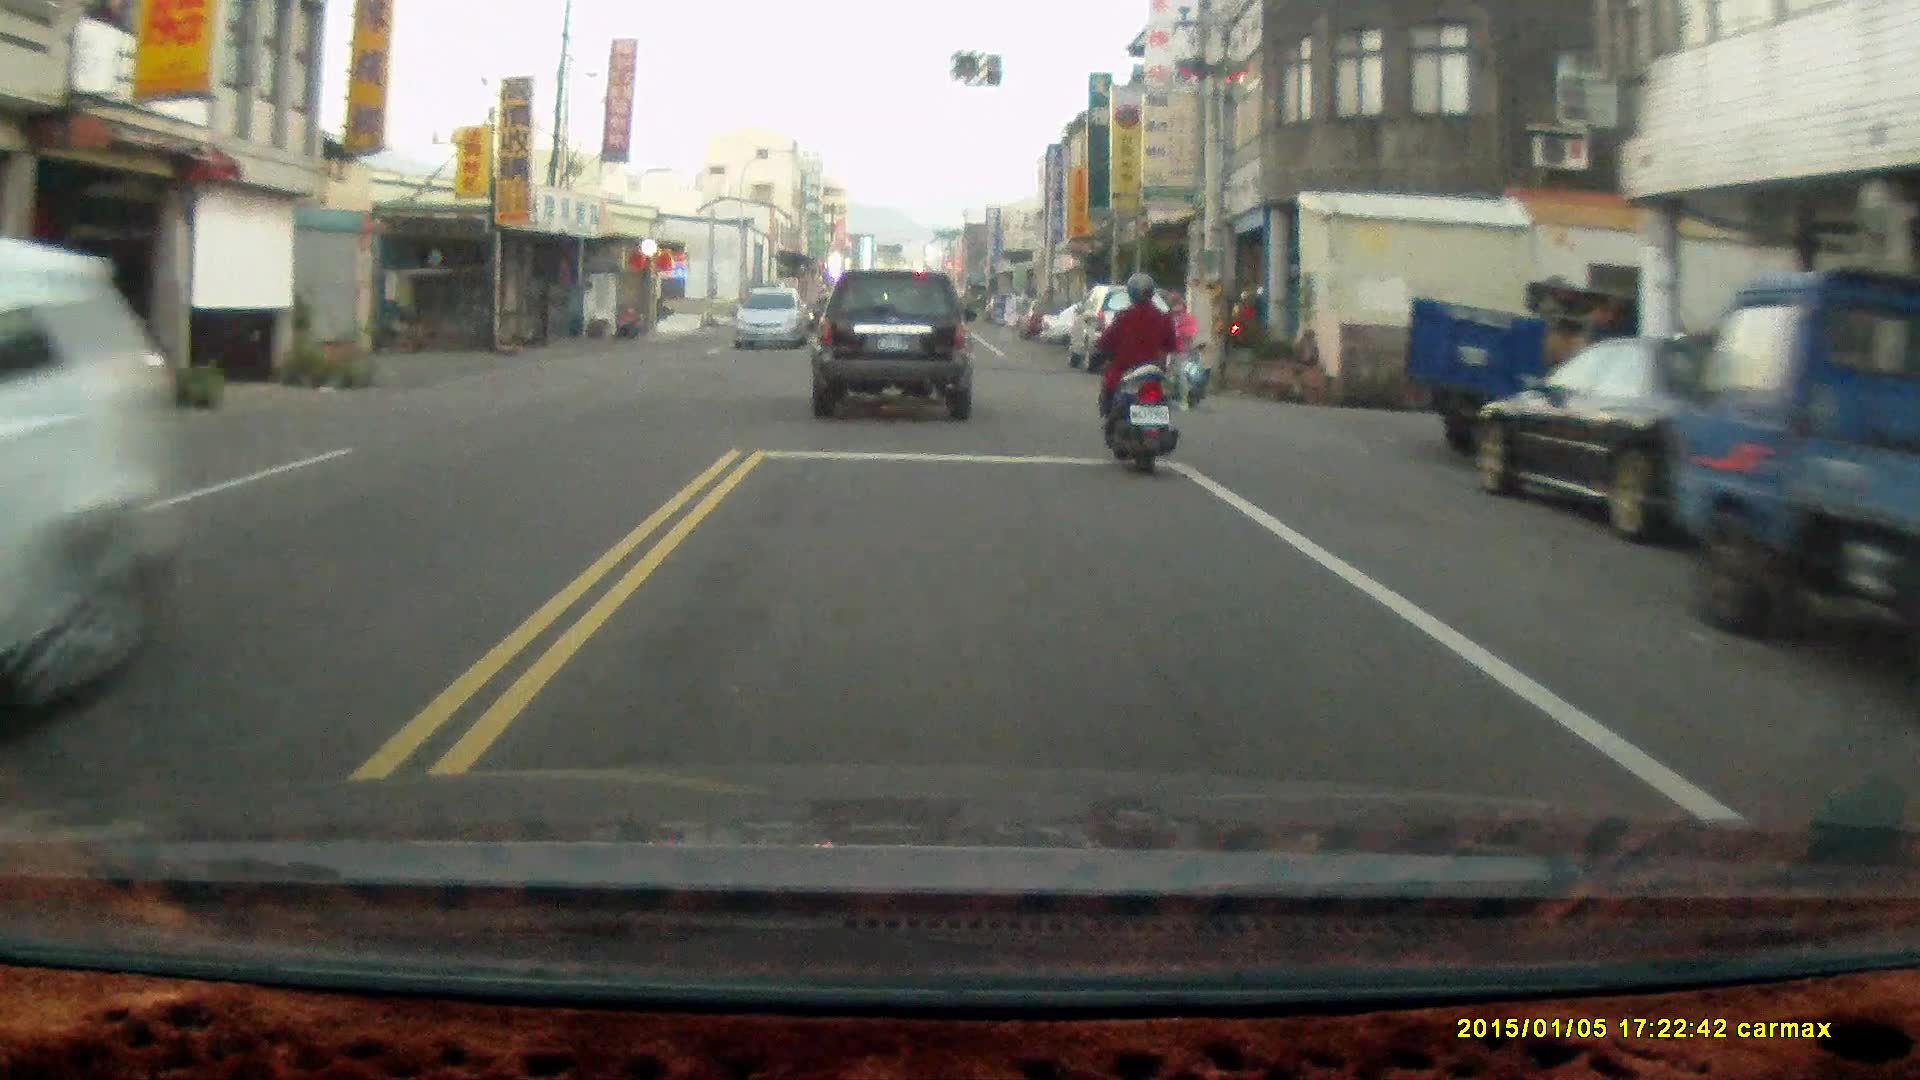rider: (1098, 269, 1176, 478), (1137, 285, 1209, 411)
vehicle: (1678, 267, 1920, 692), (1, 233, 185, 758), (1468, 329, 1869, 543), (1402, 275, 1680, 463), (808, 266, 979, 423), (1070, 285, 1181, 371), (734, 287, 812, 353)
